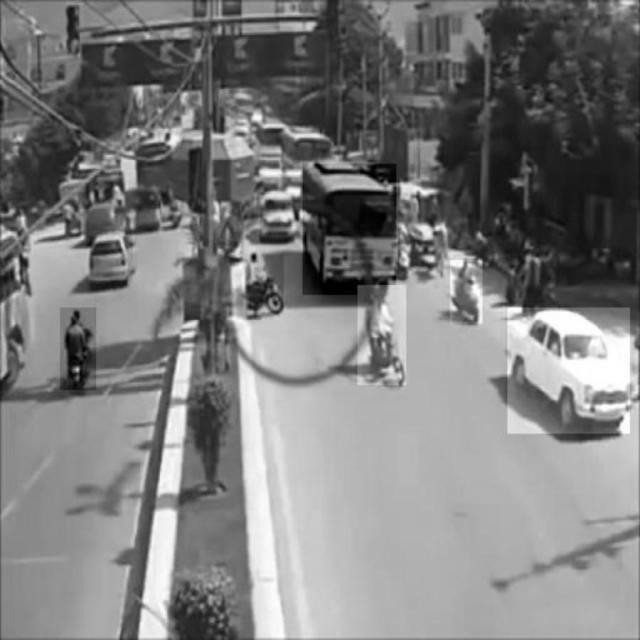vehicle: (508, 308, 630, 434), (303, 164, 396, 295), (358, 285, 406, 385), (60, 307, 96, 389), (245, 255, 283, 313), (89, 233, 133, 283), (451, 260, 483, 324), (260, 192, 295, 236)
